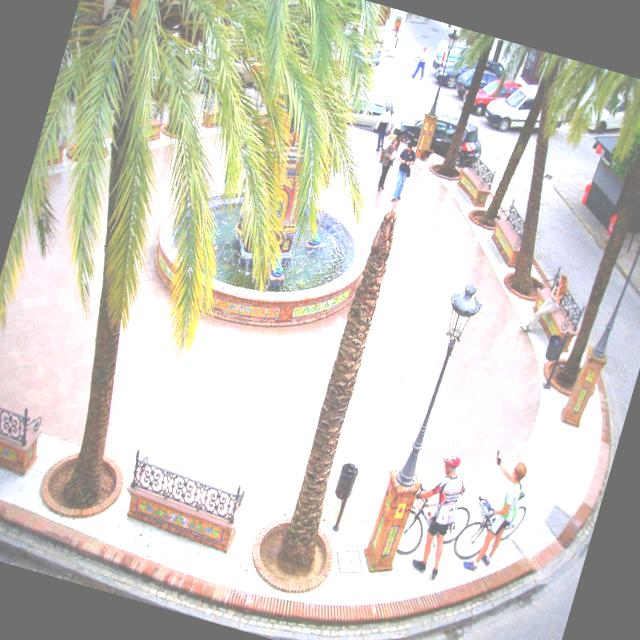Vehicle: (388, 100, 489, 172), (478, 71, 570, 148), (458, 70, 522, 126), (587, 80, 640, 147), (343, 88, 401, 139), (452, 60, 502, 106), (431, 54, 469, 90)
